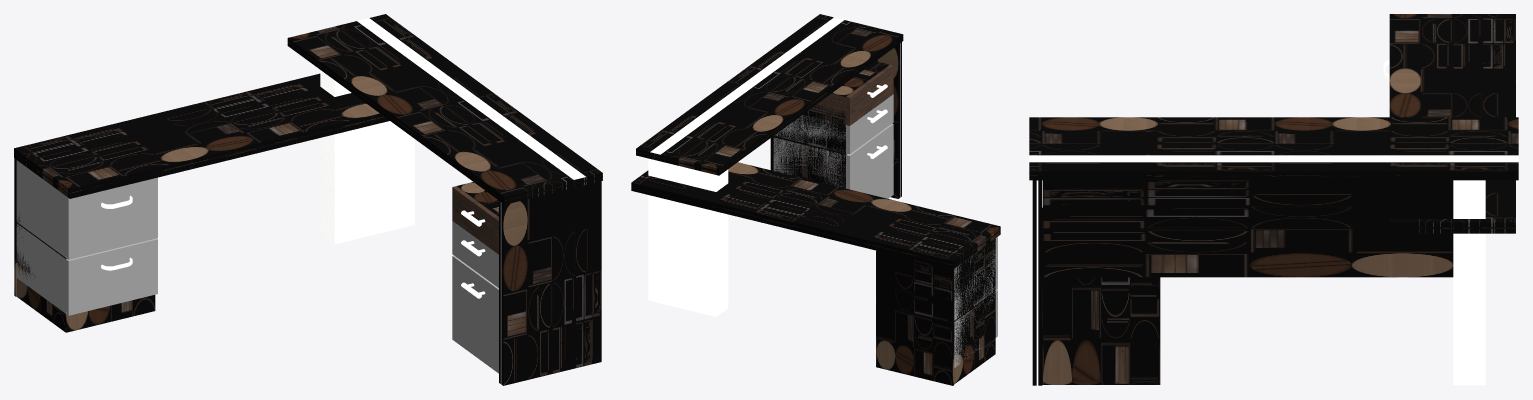
The picture shows the model from 3 angles, left to right: view 1: azimuth 30°, elevation 25°; view 2: azimuth 150°, elevation 25°; view 3: azimuth 270°, elevation 25°; orthographic projection. The views are drawn at different scales.
Parts seen in each view (by area): view 1: Box002, Desk, Box009__0, Box007, Drawer2__Paris2010_0Curbs_0, Drawer1__Paris2010_0Curbs_0, Drawer5__Paris2010_0Curbs_0, Box001__0, WhitePiece, Drawer3__Paris2010_0Curbs_0, Drawer4__Paris2010_0Curbs_0, BlackPiece (+3 smaller); view 2: Box002, Desk, Box001__0, Box007, Box003__0, Drawer5__Paris2010_0Curbs_0, Drawer4__Paris2010_0Curbs_0, Drawer3__Paris2010_0Curbs_0, WhitePiece, Box009__0, Drawer2__Paris2010_0Curbs_0, Edge1__0 (+3 smaller); view 3: Box005__0, Desk, Box002, Box003__0, Box007, WhitePiece, Box009__0, BlackPiece, Edge3__0, Edge2__Paris2010_0Sol_4_0.
Boxes of the visible parts, x1,y1,x2,y2 form: Box002: (14, 73, 389, 198); Desk: (287, 14, 602, 204); Box009__0: (499, 181, 601, 385); Box007: (320, 70, 414, 244); Drawer2__Paris2010_0Curbs_0: (16, 160, 157, 259); Drawer1__Paris2010_0Curbs_0: (16, 223, 157, 315); Drawer5__Paris2010_0Curbs_0: (452, 255, 498, 373); Box001__0: (14, 157, 155, 332); WhitePiece: (357, 18, 585, 179); Drawer3__Paris2010_0Curbs_0: (452, 186, 498, 254); Drawer4__Paris2010_0Curbs_0: (452, 221, 498, 287); BlackPiece: (356, 17, 587, 180); Box002: (631, 162, 1000, 269); Desk: (636, 14, 903, 175); Box001__0: (876, 236, 995, 385); Box007: (648, 158, 728, 316); Box003__0: (770, 61, 889, 188); Drawer5__Paris2010_0Curbs_0: (773, 123, 893, 198); Drawer4__Paris2010_0Curbs_0: (774, 94, 893, 154); Drawer3__Paris2010_0Curbs_0: (803, 65, 893, 125); WhitePiece: (650, 17, 843, 154); Box009__0: (876, 42, 901, 198); Drawer2__Paris2010_0Curbs_0: (954, 235, 997, 320); Edge1__0: (631, 186, 1000, 265); Box005__0: (1043, 180, 1453, 277); Desk: (1029, 117, 1518, 180); Box002: (1389, 14, 1515, 233); Box003__0: (1042, 207, 1160, 384); Box007: (1453, 180, 1485, 385); WhitePiece: (1029, 155, 1518, 162); Box009__0: (1032, 180, 1042, 385); BlackPiece: (1029, 154, 1518, 162); Edge3__0: (1029, 175, 1518, 176); Edge2__Paris2010_0Sol_4_0: (1036, 180, 1038, 385).
Bounding box in the file's own units: 83.98 × 40.2 × 83.22.
